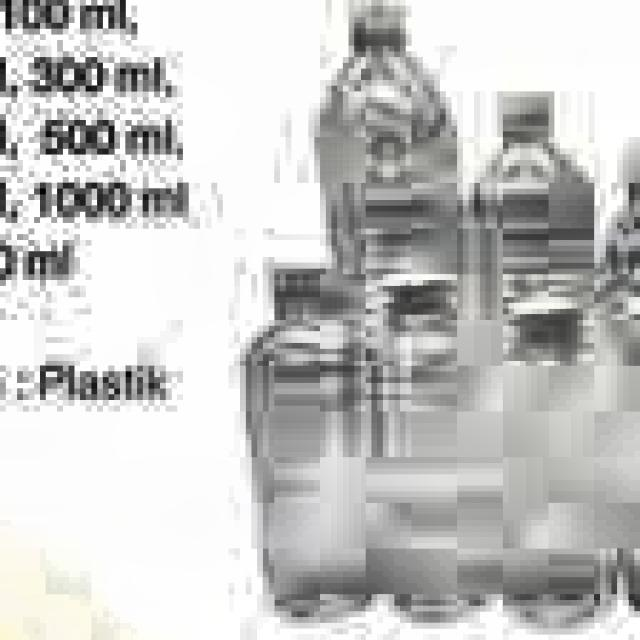plastic: (486, 314, 634, 640)
